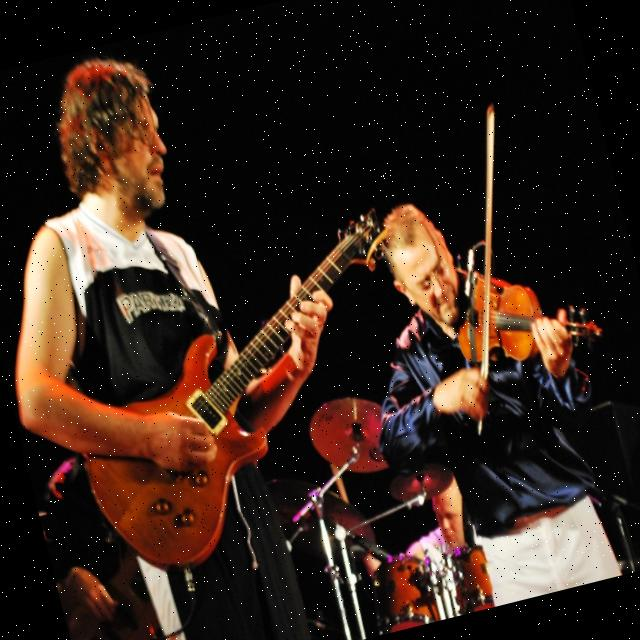drums: (250, 377, 489, 640)
guitar: (39, 202, 458, 590)
violin: (438, 242, 610, 384)
